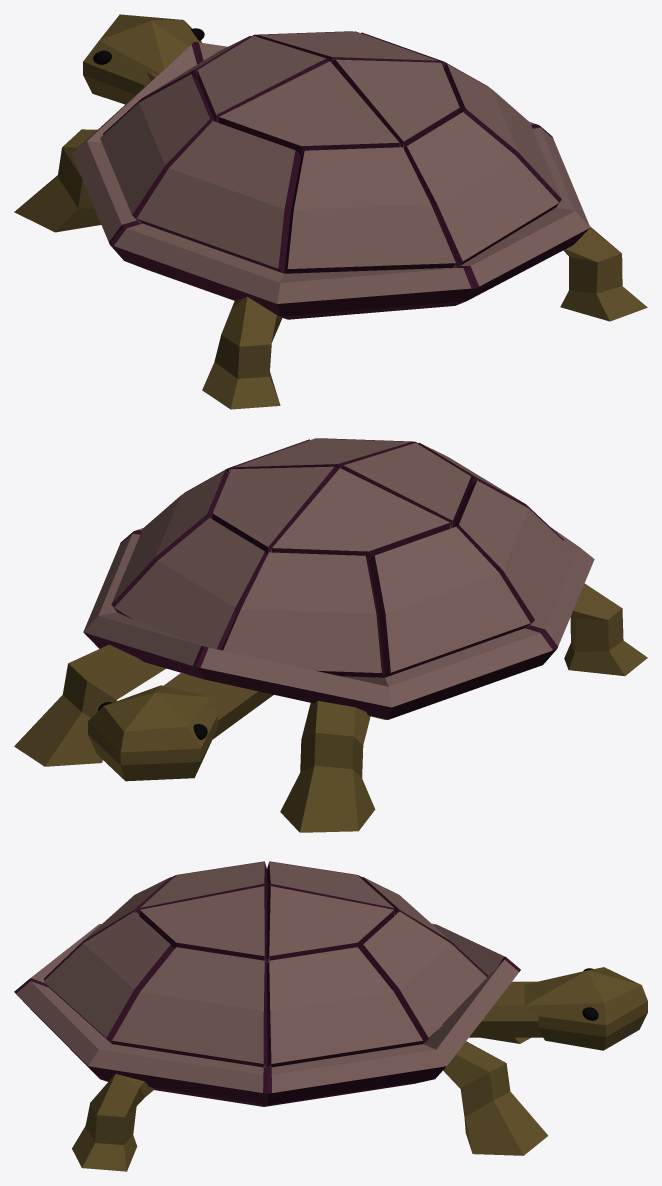
Rendered from turtleMODEL.fbx.
3 renders of one model, top to bottom at view 1: azimuth 30°, elevation 25°; view 2: azimuth 150°, elevation 25°; view 3: azimuth 270°, elevation 25°, orthographic. The views are drawn at different scales.
Parts seen in each view (by area): view 1: Circle.002, Circle.001, Cylinder.003, Cylinder.001, Cylinder.002; view 2: Circle.002, Circle.001, Cylinder.002, Cylinder, Cylinder.003, Plane; view 3: Circle.002, Circle.001, Cylinder, Cylinder.001, Plane.
Part boxes in pixels (<box>): Circle.002: <box>71,31,590,319</box>; Circle.001: <box>83,14,201,104</box>; Cylinder.003: <box>202,296,282,409</box>; Cylinder.001: <box>560,226,647,321</box>; Cylinder.002: <box>14,129,101,232</box>; Circle.002: <box>83,438,594,719</box>; Circle.001: <box>88,685,217,781</box>; Cylinder.002: <box>280,700,375,832</box>; Cylinder: <box>14,644,165,766</box>; Cylinder.003: <box>564,583,647,675</box>; Plane: <box>163,672,273,739</box>; Circle.002: <box>14,861,520,1106</box>; Circle.001: <box>524,967,647,1050</box>; Cylinder: <box>443,1041,548,1155</box>; Cylinder.001: <box>72,1074,154,1171</box>; Plane: <box>469,981,542,1037</box>.
Bounding box in the file's own units: 205 × 99.65 × 292.
